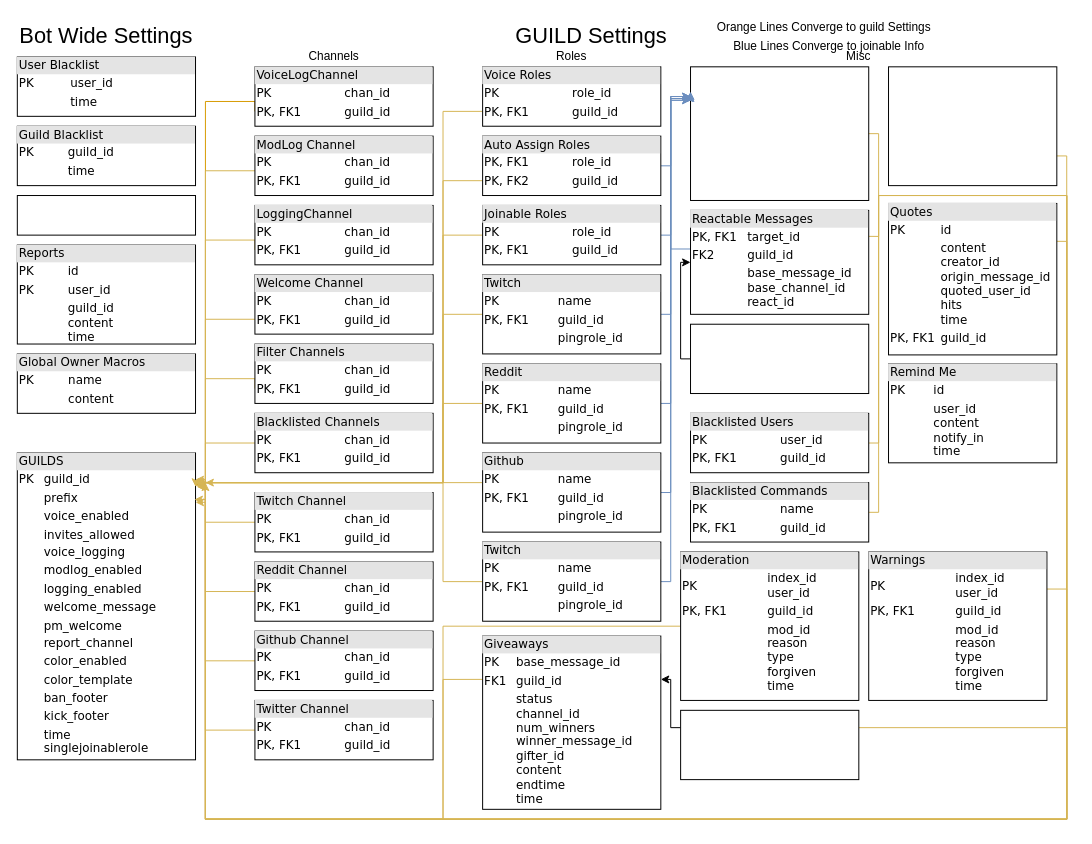
Image size: 1092x844. Some labels were removed from this diagram. The box of each missing label's shape, as (x1, y1, x2, y2) in pixels:
Command Blacklist PK name: (16, 195, 196, 235)
Giveaway Winners PK user_id PK, FK1 base_message_id guild_id: (680, 709, 859, 780)
Joinable TargetsInfo PK target_id FK1 guild_id info join_type name url time: (690, 66, 869, 200)
Macros PK name content creator_id hits time PK, FK1 guild_id: (888, 66, 1057, 186)
Reactable Message Users PK, FK user_id react_id base_message_id: (690, 323, 869, 394)
